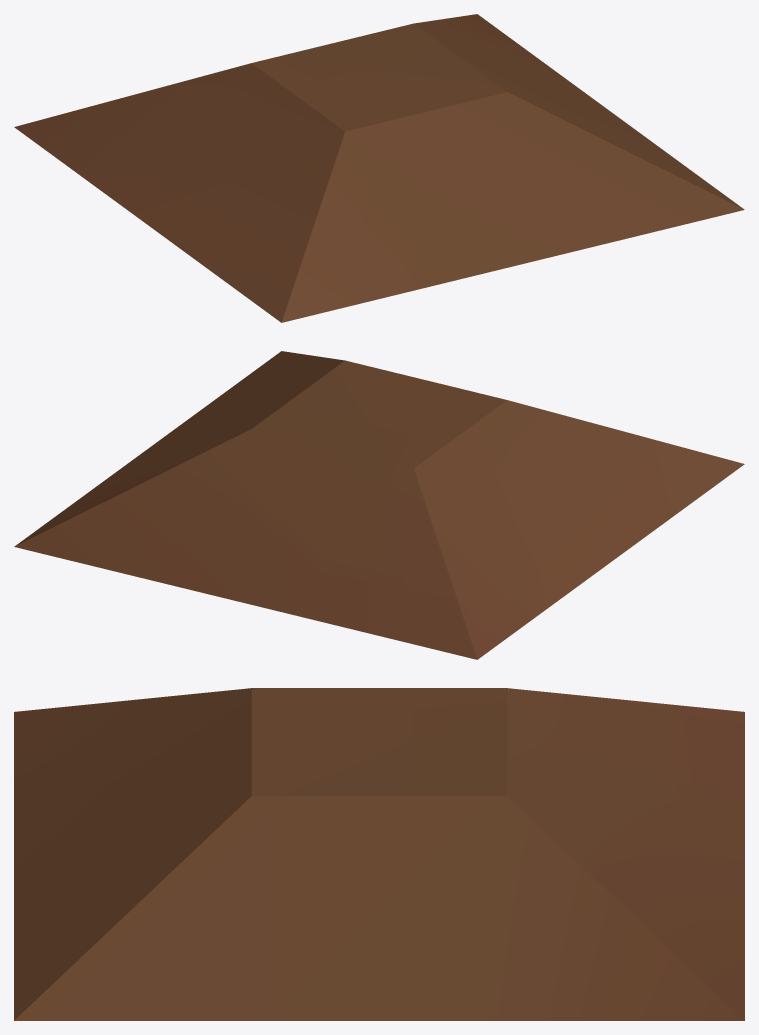
3 views of the same model, one above another, from view 1: azimuth 30°, elevation 25°; view 2: azimuth 150°, elevation 25°; view 3: azimuth 270°, elevation 25° (orthographic). The views are drawn at different scales.
Parts seen in each view (by area): view 1: SkateboardPyramidRamp; view 2: SkateboardPyramidRamp; view 3: SkateboardPyramidRamp.
Boxes of the visible parts, x1=… form: SkateboardPyramidRamp: x1=14, y1=14, x2=744, y2=322; SkateboardPyramidRamp: x1=14, y1=351, x2=744, y2=659; SkateboardPyramidRamp: x1=14, y1=688, x2=744, y2=1020.
Size of what is drawn, in the model's own units: 8 by 1.5 by 8.
1 material, 1 textured.
